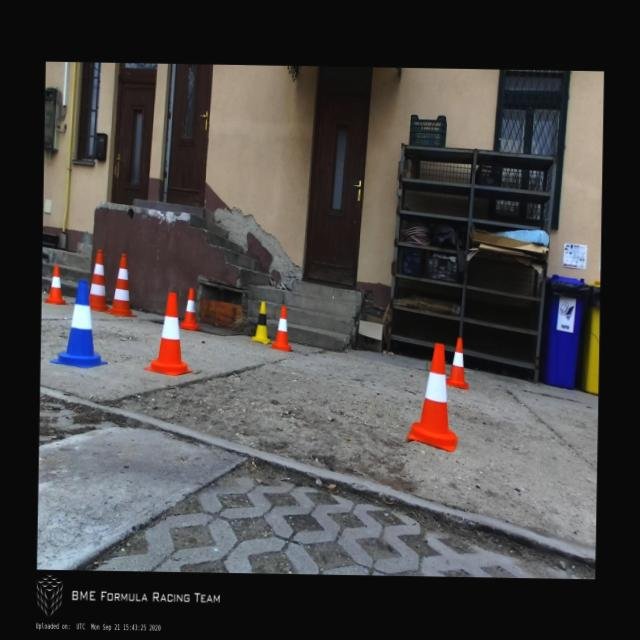blue_cone: (50, 279, 110, 368)
large_orange_cone: (104, 252, 138, 317), (87, 249, 109, 311)
orange_cone: (406, 342, 459, 452), (143, 292, 193, 376), (446, 337, 469, 389), (269, 305, 294, 351), (179, 286, 202, 331), (43, 265, 69, 304)
yellow_cone: (252, 300, 272, 344)
